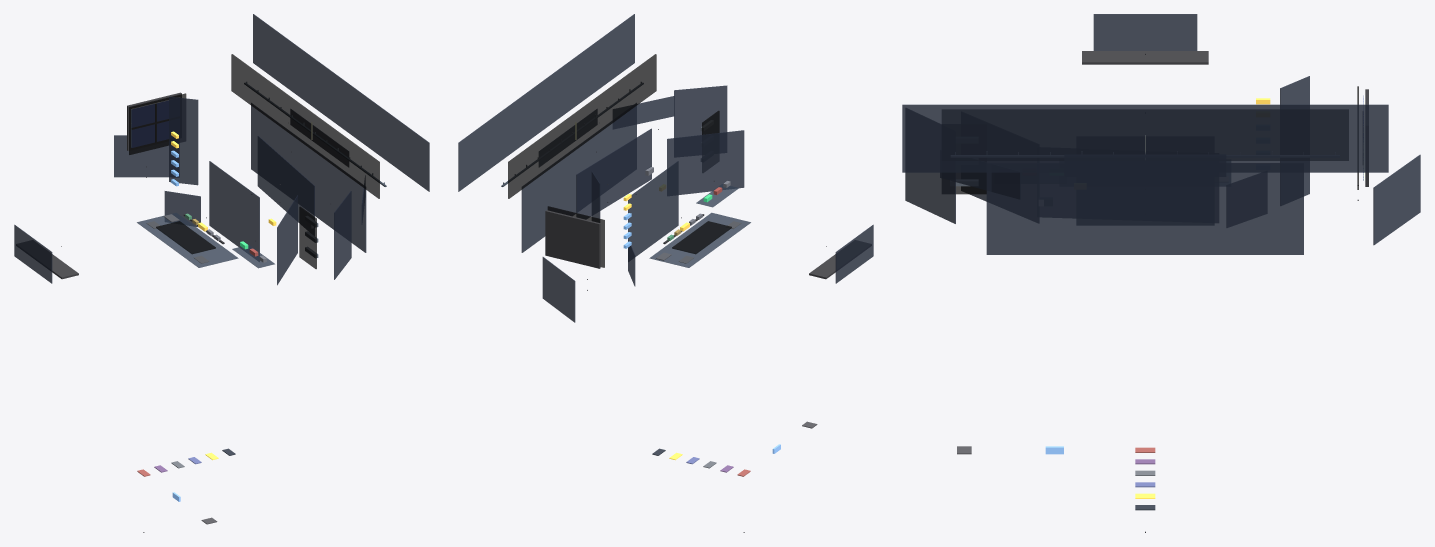
The model's file is world.glb.
3 views of the same model, side by side, from view 1: azimuth 30°, elevation 25°; view 2: azimuth 150°, elevation 25°; view 3: azimuth 270°, elevation 25° (orthographic). The views are drawn at different scales.
Parts seen in each view (by area): view 1: PlateCal, VeilCal, PlateStage, PlateOpen, PlateAbout, PlateModes, DeskMat, VeilWindow, PlateWindow, PaneNight, PlateQuiet, PlateDraft (+7 smaller); view 2: PlateCal, VeilCal, PlateStage, PlateDraft, PlateAbout, PlateOpen, WindowFrame, PlateTasks, DeskMat, PlateWindow, PlateQuiet, VeilDesk (+4 smaller); view 3: PlateCal, PlateStage, PlateQuiet, PlateWindow, PlateTasks, QuietShelf, PlateVip, PlateModes, PlateBanner.
Part boxes in pixels (<box>): PlateCal: <box>253,14,429,191</box>; VeilCal: <box>231,54,379,198</box>; PlateStage: <box>251,103,366,252</box>; PlateOpen: <box>209,161,259,261</box>; PlateAbout: <box>257,136,314,235</box>; PlateModes: <box>169,96,198,185</box>; DeskMat: <box>137,212,238,267</box>; VeilWindow: <box>129,93,186,154</box>; PlateWindow: <box>114,135,168,177</box>; PaneNight: <box>131,100,168,147</box>; PlateQuiet: <box>14,224,52,283</box>; PlateDraft: <box>277,195,297,285</box>; PlateCal: <box>458,14,634,191</box>; VeilCal: <box>508,54,656,198</box>; PlateStage: <box>521,103,636,252</box>; PlateDraft: <box>667,130,744,194</box>; PlateAbout: <box>576,128,651,219</box>; PlateOpen: <box>628,161,678,256</box>; WindowFrame: <box>545,210,600,268</box>; PlateTasks: <box>674,85,727,137</box>; DeskMat: <box>649,212,750,267</box>; PlateWindow: <box>542,257,575,322</box>; PlateQuiet: <box>835,224,873,283</box>; VeilDesk: <box>672,221,731,254</box>; PlateCal: <box>902,104,1388,172</box>; PlateStage: <box>986,172,1303,254</box>; PlateQuiet: <box>1093,14,1197,50</box>; PlateWindow: <box>1373,154,1420,245</box>; PlateTasks: <box>905,172,955,223</box>; QuietShelf: <box>1082,51,1208,64</box>; PlateVip: <box>940,172,1020,199</box>; PlateModes: <box>1280,76,1309,196</box>; PlateBanner: <box>1064,172,1226,176</box>.
Bounding box in the file's own units: 5.44 × 6.84 × 5.73.
